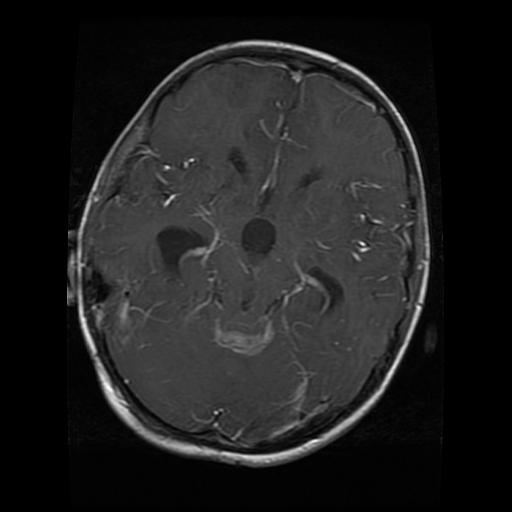Gliomia_tumour: (152, 223, 207, 280)
